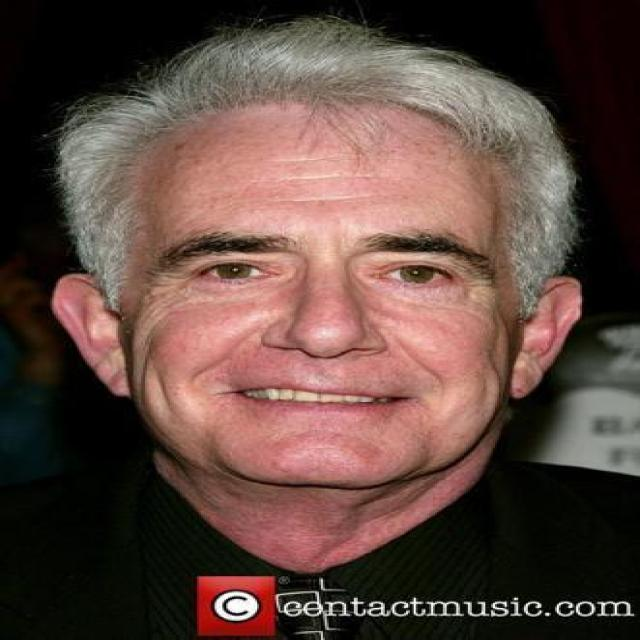0_rostro_limpio: (94, 66, 556, 505)
